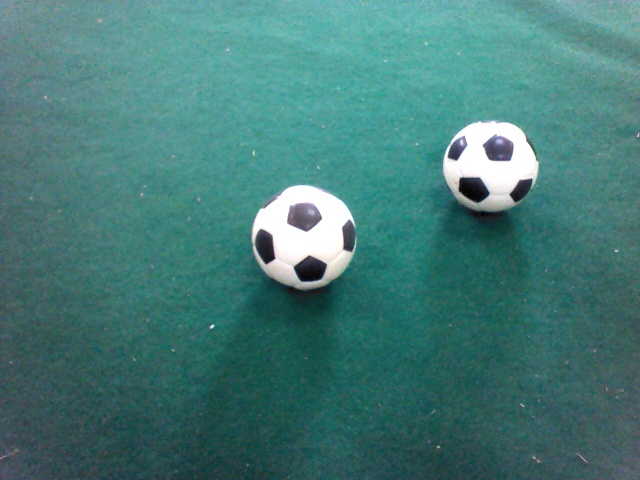ball: (203, 52, 321, 172)
